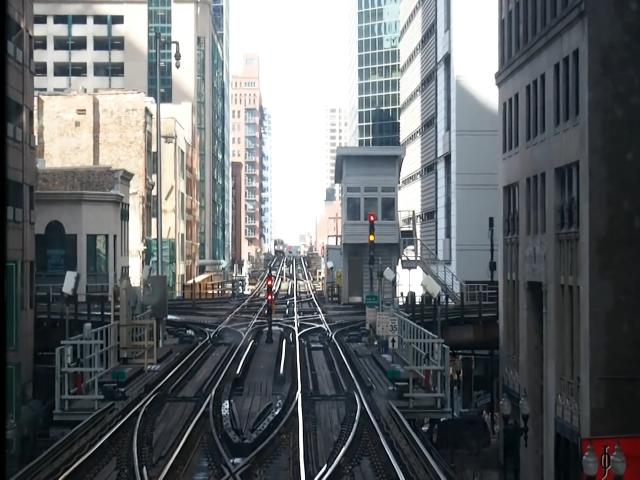signal light: (368, 214, 377, 272), (267, 272, 275, 326)
